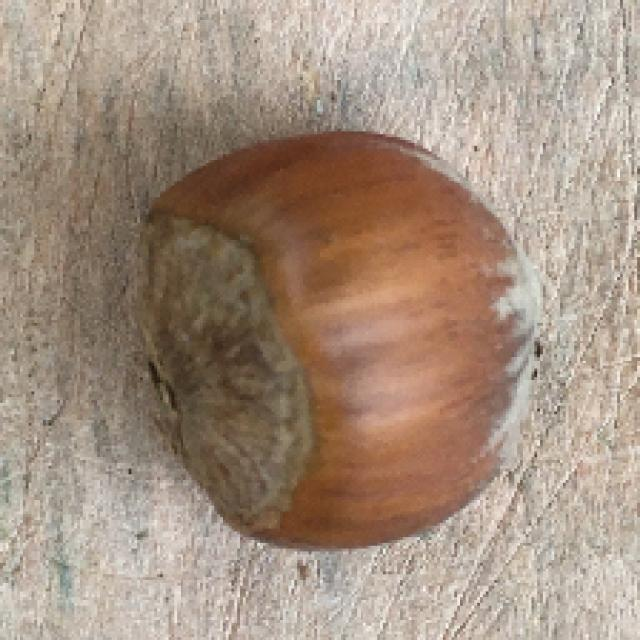damagedHazelnut: (124, 124, 554, 558)
